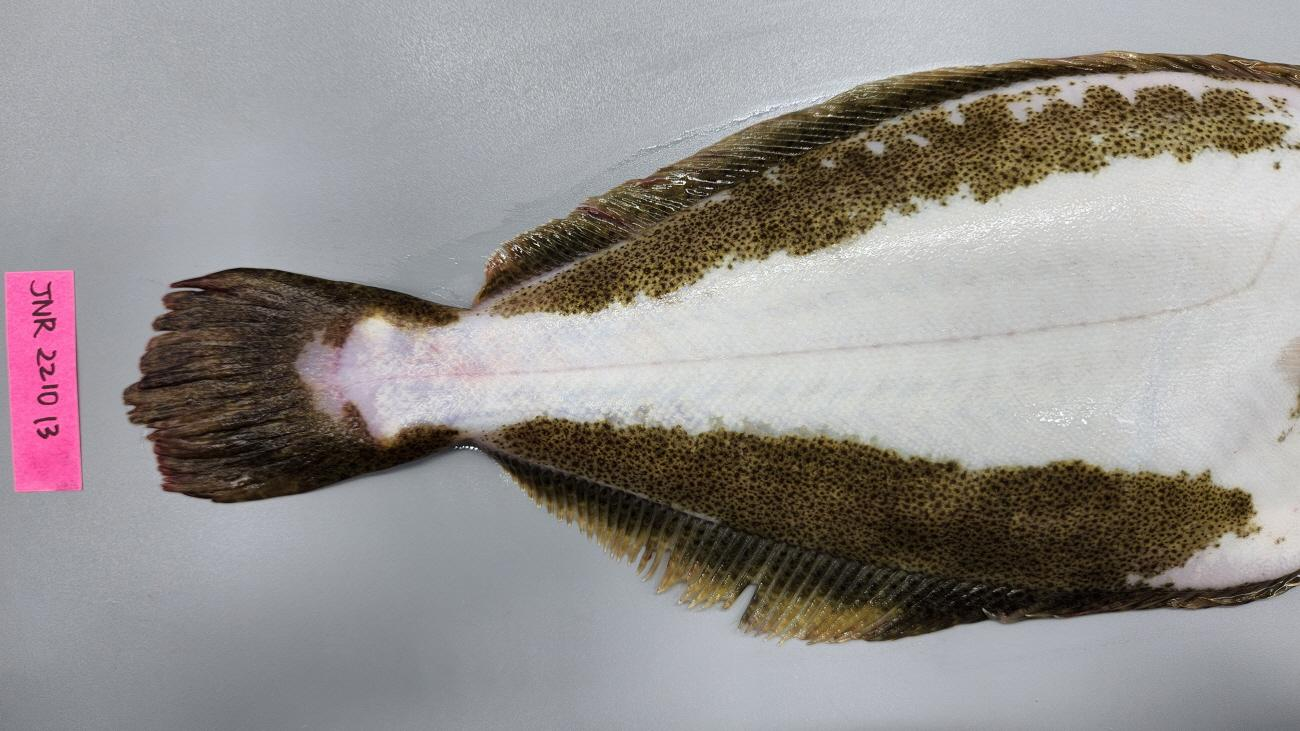POOUN: (119, 51, 1300, 645)
